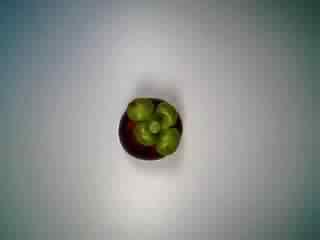mangosteen: (115, 90, 185, 164)
